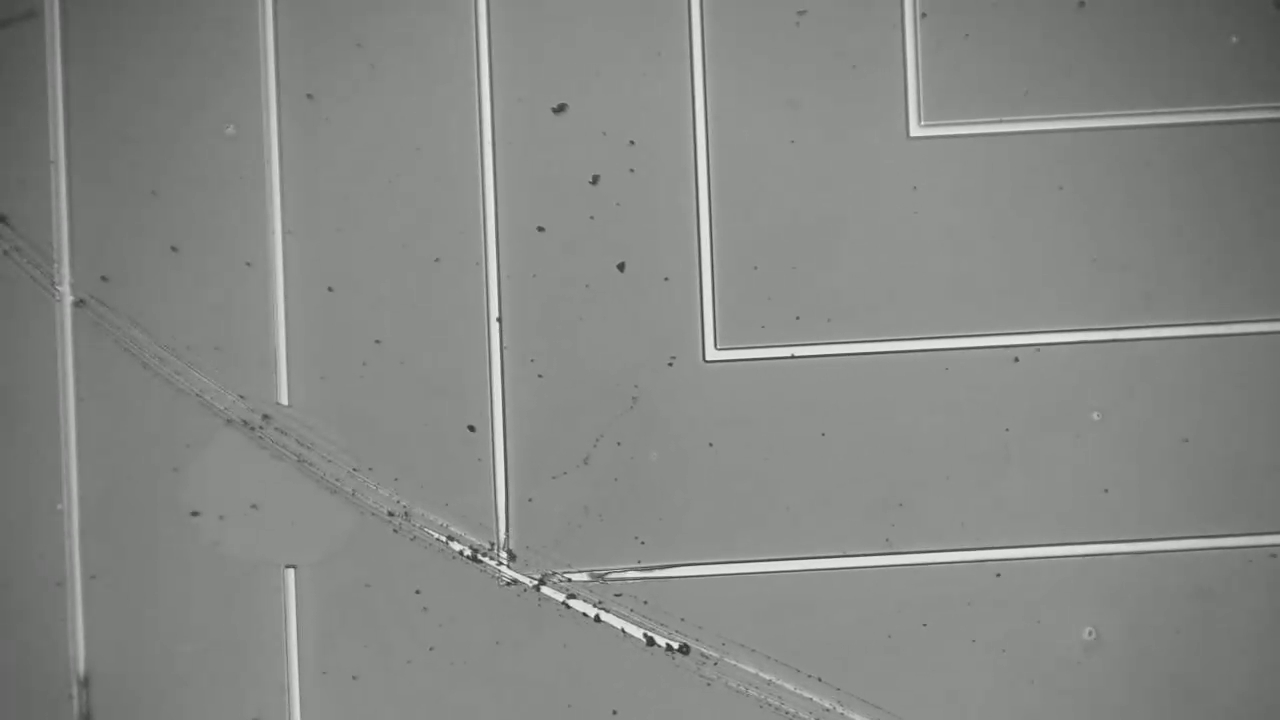gray_line: (57, 648, 105, 720)
open: (251, 360, 330, 610)
scratch: (1, 231, 434, 551), (516, 581, 916, 720)
